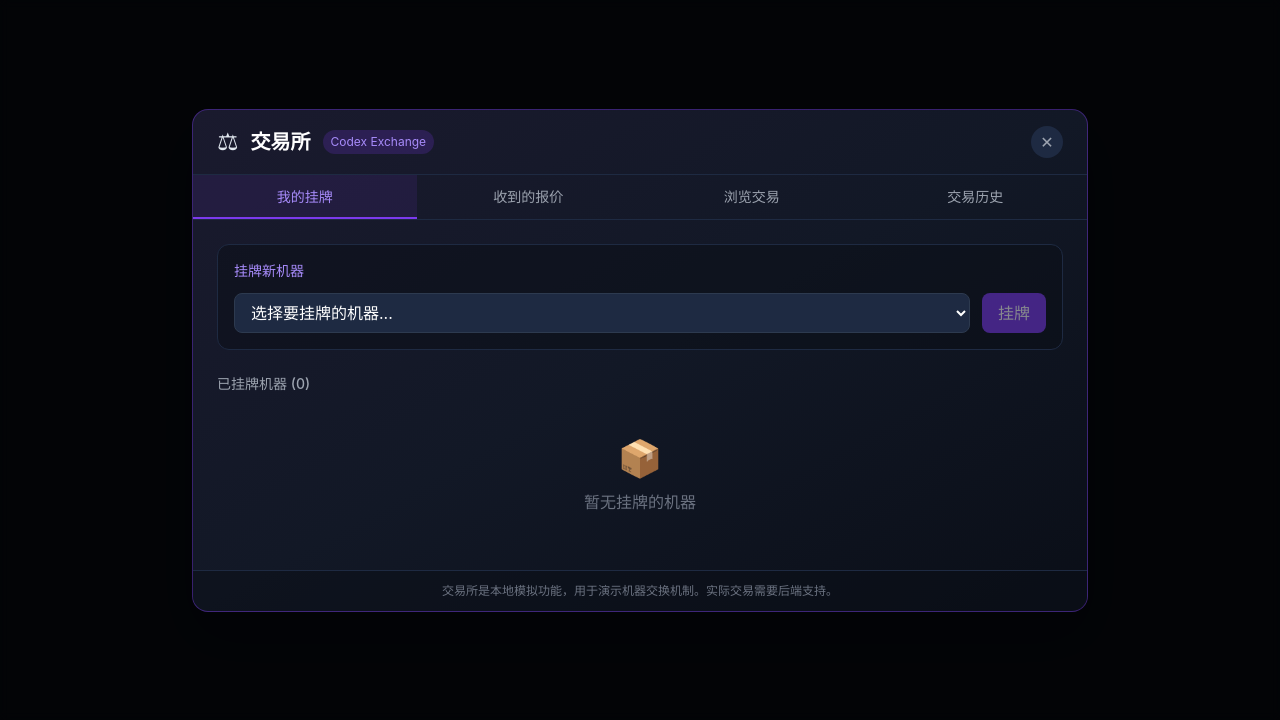
Test: ExchangePanel › Browse Trades Tab - Open Trade Proposal Modal (AC-EXCHANGE-UI-025) › should disable 出价交易 button when user has no listed machines
Click the button "浏览交易": (752, 196) [640,174,864,218]
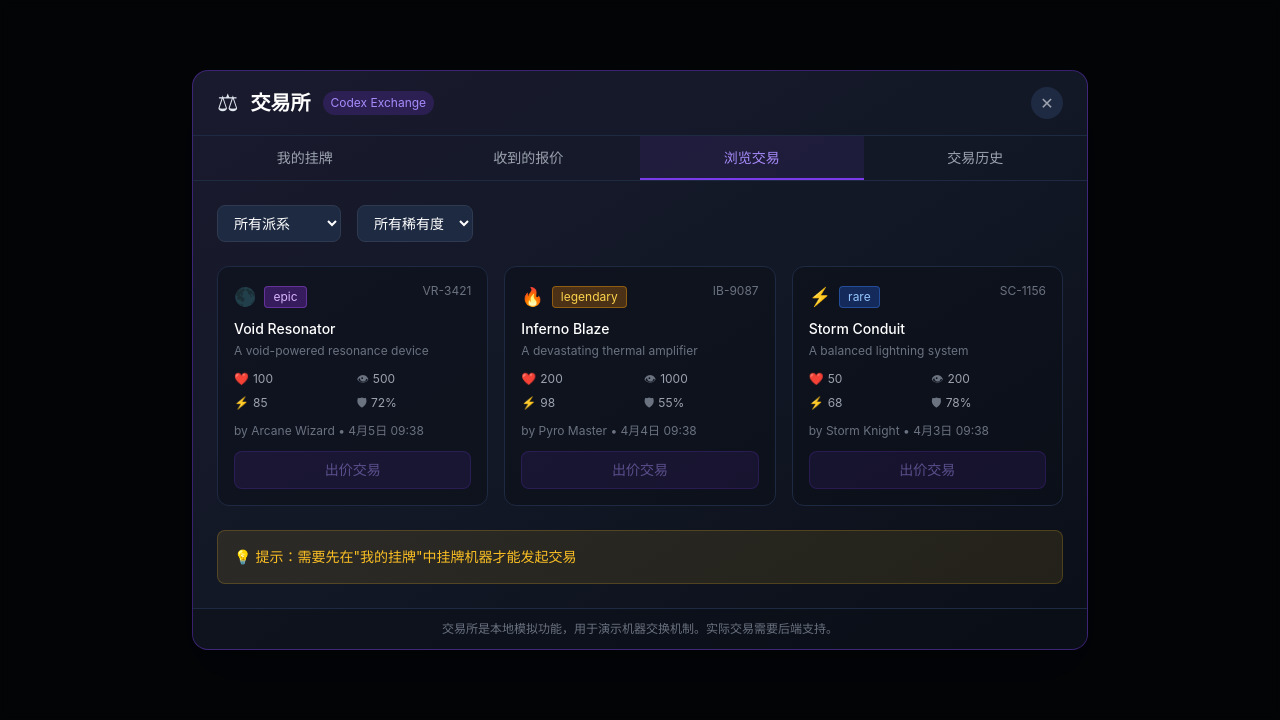
expect the button "出价交易" below "Arcane Wizard" is disabled: met, box [234,451,471,489]
